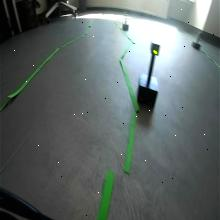green: (150, 39, 161, 58)
